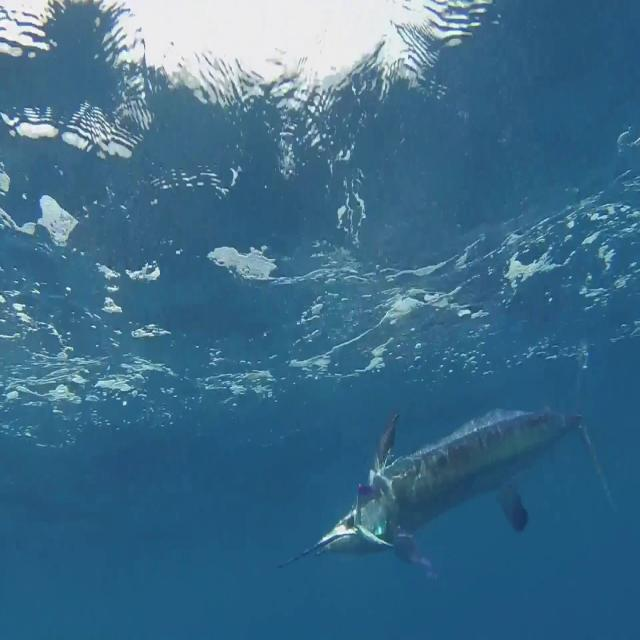Spear Fish: (276, 341, 617, 583)
